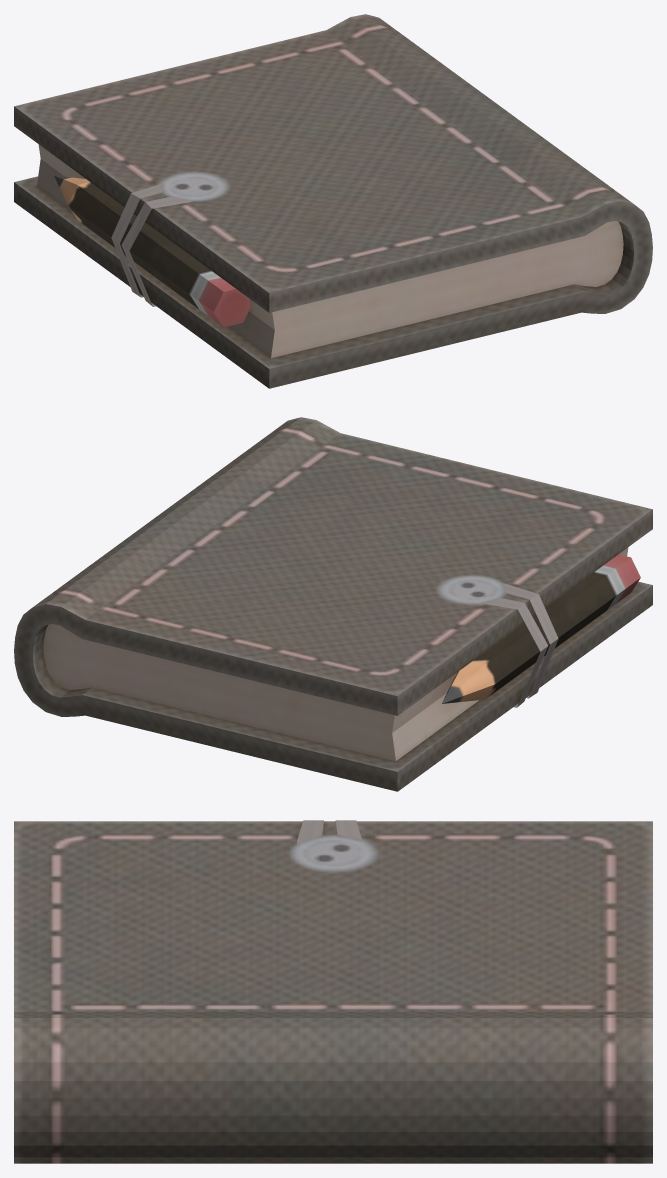
Rendered from P_Book_002_S1_M03.obj.
The picture shows the model from 3 angles, top to bottom: view 1: azimuth 30°, elevation 25°; view 2: azimuth 150°, elevation 25°; view 3: azimuth 270°, elevation 25°; orthographic projection. The views are drawn at different scales.
Size of the model in its own units: 0.3597 by 0.093 by 0.3912.
Materials: 1 (1 with a texture image).
